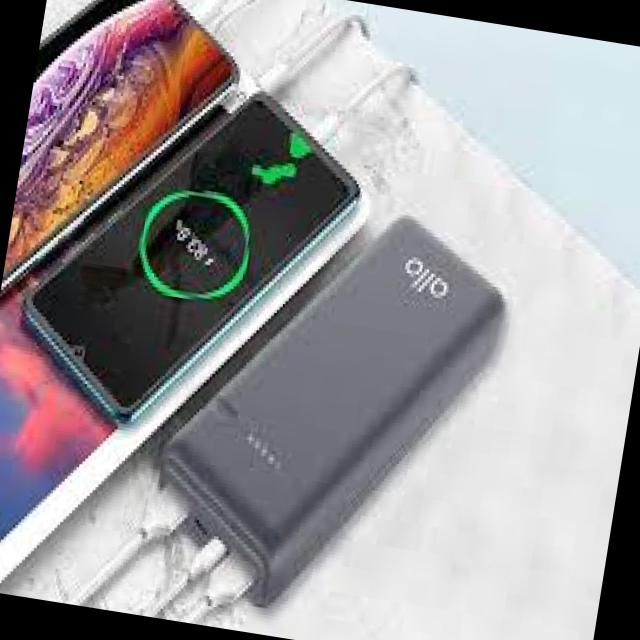portable-charger: (143, 185, 524, 640)
